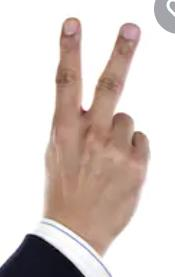front: (37, 13, 157, 240)
